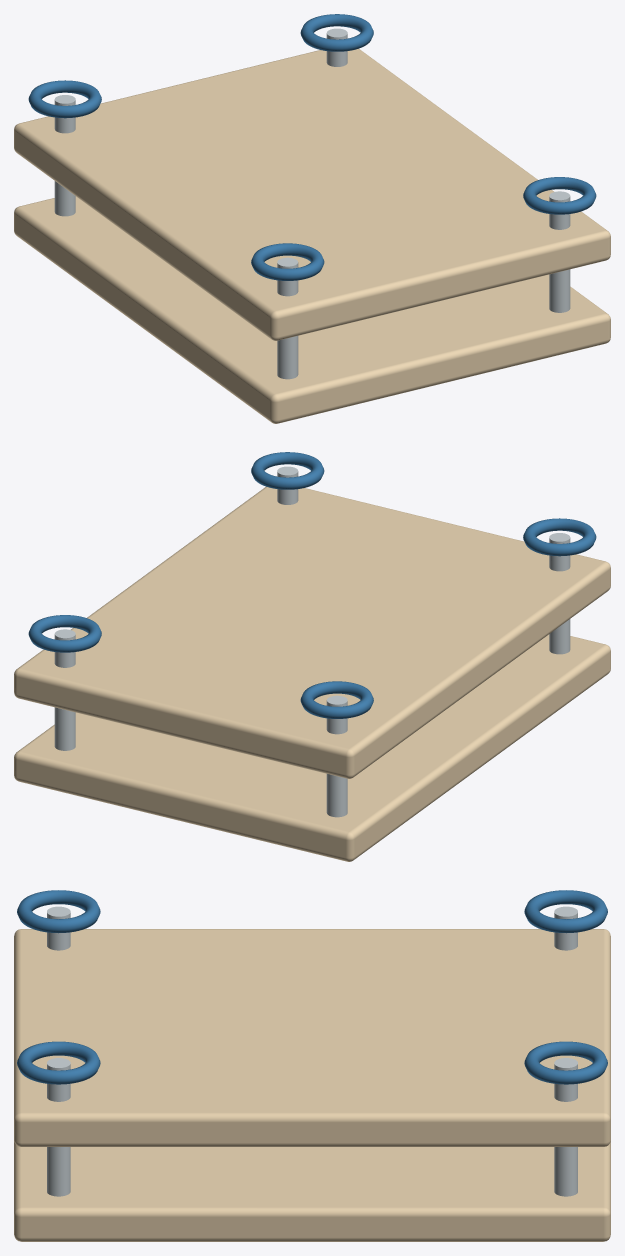
File: squash-club-and-racket-workshop-racket-press-361f10ca__29760.glb
3 renders of one model, top to bottom at view 1: azimuth 30°, elevation 25°; view 2: azimuth 150°, elevation 25°; view 3: azimuth 270°, elevation 25°, orthographic. The views are drawn at different scales.
Visible parts, largest first — view 1: racket-press; view 2: racket-press; view 3: racket-press.
Part boxes in pixels (box(x1,y1,x2,y2)): racket-press: box(14, 14, 610, 423); racket-press: box(14, 452, 610, 861); racket-press: box(14, 890, 610, 1241).
Size of the model in its own units: 0.3 by 0.125 by 0.4.
